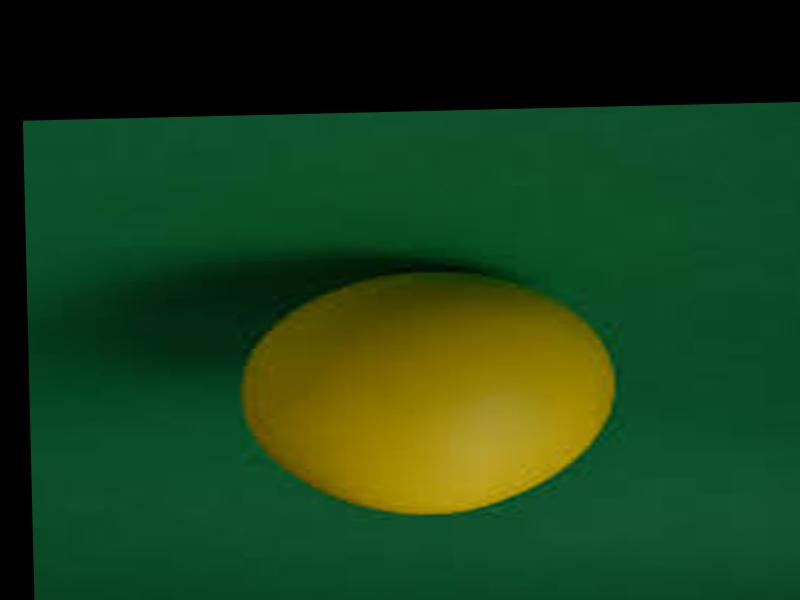Eggs: (250, 265, 623, 520)
